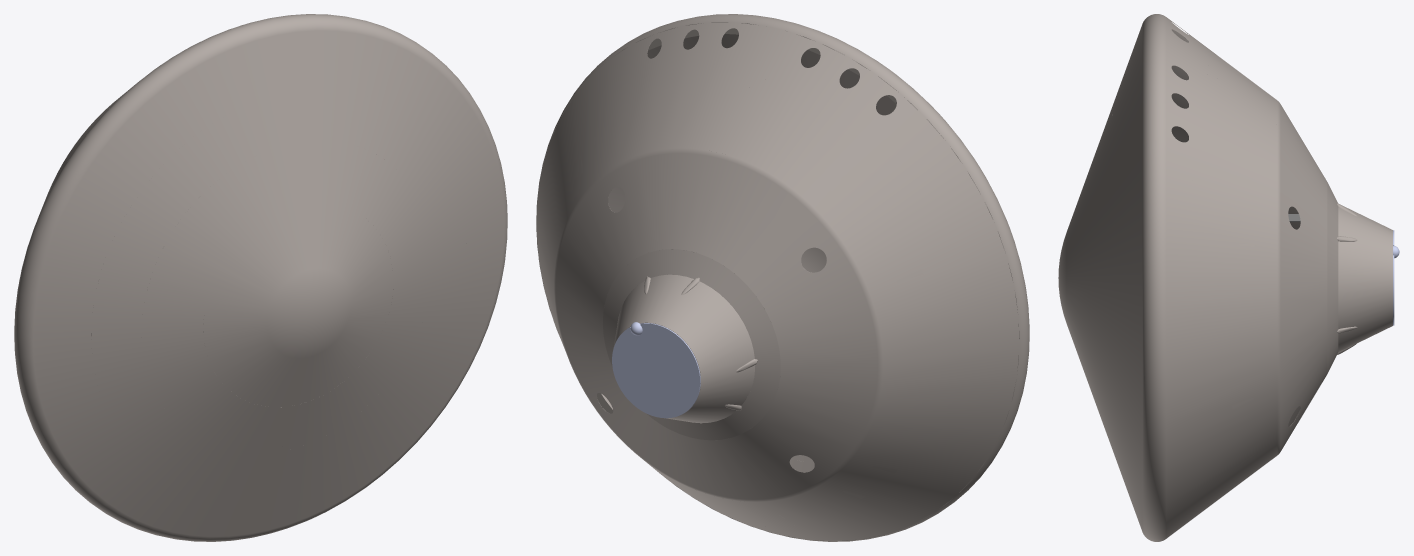
Rendered from Mars 2020.fbx.
3 renders of one model, left to right at view 1: azimuth 30°, elevation 25°; view 2: azimuth 150°, elevation 25°; view 3: azimuth 270°, elevation 25°, orthographic. The views are drawn at different scales.
Parts seen in each view (by area): view 1: Body_90, Body_68, Body_86, Body_72, Body_85, Body_71, Body_79, Body_87, Body_88, Body_84, Body_89, Body_73 (+11 smaller); view 2: Body_16, Body_90, Body_116, Body_92, Body_108, Body_15, Body_1, Body_12, Body_11, Body_14; view 3: Body_16, Body_90, Body_116, Body_68, Body_92, Body_89, Body_76, Body_75, Body_83, Body_79, Body_15, Body_82 (+4 smaller).
Part boxes in pixels (x1=…): Body_90: x1=14, y1=14, x2=507, y2=541; Body_68: x1=146, y1=140, x2=393, y2=407; Body_86: x1=91, y1=288, x2=148, y2=394; Body_72: x1=141, y1=292, x2=208, y2=381; Body_85: x1=96, y1=199, x2=175, y2=289; Body_71: x1=150, y1=360, x2=241, y2=441; Body_79: x1=322, y1=89, x2=407, y2=161; Body_87: x1=100, y1=378, x2=186, y2=464; Body_88: x1=150, y1=433, x2=263, y2=492; Body_84: x1=135, y1=131, x2=211, y2=226; Body_89: x1=358, y1=156, x2=427, y2=253; Body_73: x1=201, y1=399, x2=302, y2=454; Body_16: x1=536, y1=22, x2=1019, y2=541; Body_90: x1=536, y1=14, x2=1029, y2=541; Body_116: x1=614, y1=274, x2=755, y2=422; Body_92: x1=603, y1=249, x2=780, y2=440; Body_108: x1=612, y1=323, x2=700, y2=418; Body_15: x1=699, y1=91, x2=765, y2=156; Body_1: x1=683, y1=485, x2=800, y2=531; Body_12: x1=882, y1=139, x2=916, y2=170; Body_11: x1=959, y1=292, x2=994, y2=318; Body_14: x1=743, y1=54, x2=771, y2=87; Body_16: x1=1166, y1=17, x2=1327, y2=537; Body_90: x1=1123, y1=14, x2=1166, y2=541; Body_116: x1=1338, y1=203, x2=1392, y2=351; Body_68: x1=1058, y1=121, x2=1107, y2=379; Body_92: x1=1327, y1=182, x2=1338, y2=373; Body_89: x1=1087, y1=209, x2=1107, y2=300; Body_76: x1=1107, y1=203, x2=1123, y2=301; Body_75: x1=1087, y1=293, x2=1107, y2=384; Body_83: x1=1107, y1=297, x2=1123, y2=394; Body_79: x1=1107, y1=121, x2=1123, y2=219; Body_15: x1=1224, y1=75, x2=1277, y2=124; Body_82: x1=1107, y1=370, x2=1123, y2=464.
Bounding box in the file's own units: 4.52 × 2.92 × 4.51.
